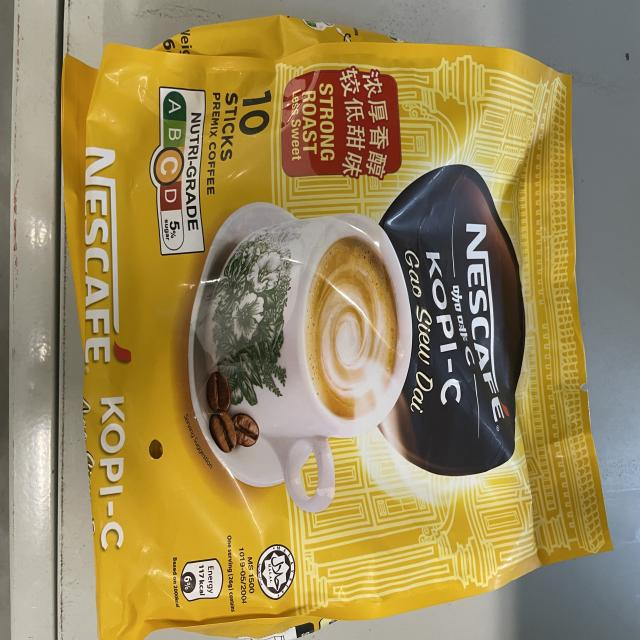object_name: (69, 39, 586, 618)
